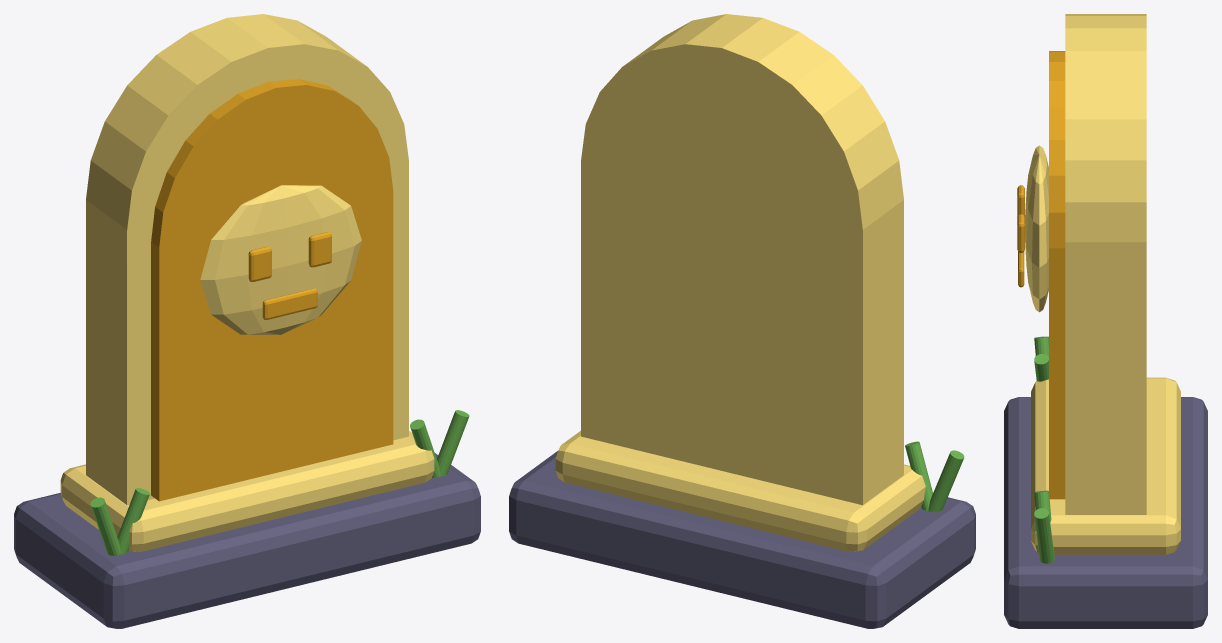
File: Grave_Golden.glb
3 renders of one model, left to right at view 1: azimuth 30°, elevation 25°; view 2: azimuth 150°, elevation 25°; view 3: azimuth 270°, elevation 25°, orthographic.
Parts seen in each view (by area): view 1: Inset.003, Arch.003, Foundation.003, Foot.003, ZombieFace.003, Grin.003, Grass.015, Grass.012, Grass.013, Eye.006, Eye.007; view 2: Arch.003, Foundation.003, Foot.003, Grass.012, Grass.013; view 3: Arch.003, Foundation.003, Foot.003, Inset.003, ZombieFace.003, Grass.015, Grass.013, Grass.014, Eye.007.
Part boxes in pixels (box(x1,y1,x2,y2)): Inset.003: box(151, 79, 393, 501); Arch.003: box(86, 14, 408, 505); Foundation.003: box(14, 453, 480, 628); Foot.003: box(60, 431, 434, 551); ZombieFace.003: box(200, 185, 361, 334); Grin.003: box(262, 288, 317, 319); Grass.015: box(437, 410, 469, 476); Grass.012: box(90, 497, 120, 555); Grass.013: box(117, 488, 149, 554); Eye.006: box(248, 246, 271, 281); Eye.007: box(308, 232, 331, 267); Arch.003: box(581, 14, 903, 505); Foundation.003: box(509, 451, 975, 628); Foot.003: box(555, 431, 925, 551); Grass.012: box(928, 450, 964, 512); Grass.013: box(905, 441, 932, 510); Arch.003: box(1065, 14, 1146, 514); Foundation.003: box(1004, 397, 1207, 628); Foot.003: box(1031, 377, 1180, 554); Inset.003: box(1049, 51, 1065, 499); ZombieFace.003: box(1025, 145, 1048, 312); Grass.015: box(1034, 508, 1054, 563); Grass.013: box(1034, 354, 1048, 381); Grass.014: box(1034, 490, 1054, 557); Eye.007: box(1017, 214, 1024, 252).
Size of the model in its own units: 2.01 by 2.65 by 0.95.
